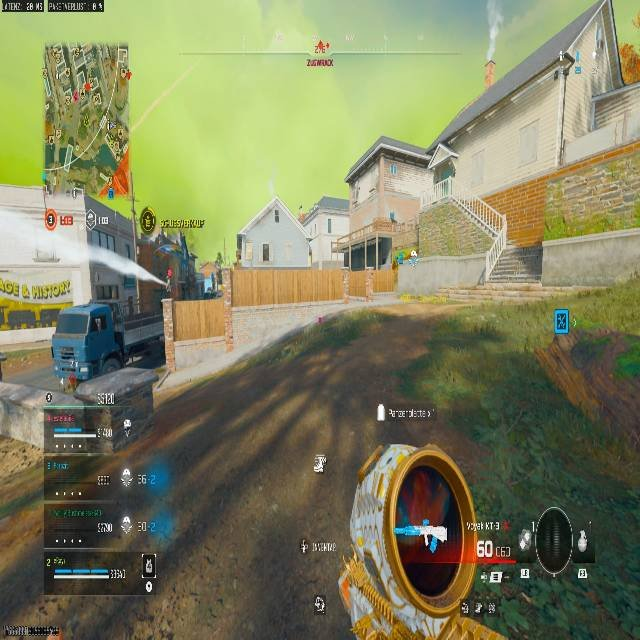player: (135, 226, 188, 297), (122, 419, 132, 438)
